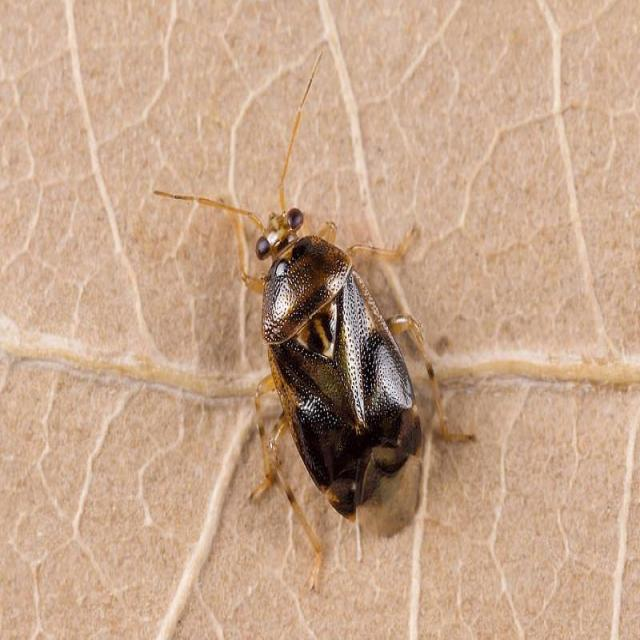Miridae-Adult-: (187, 53, 482, 584)
